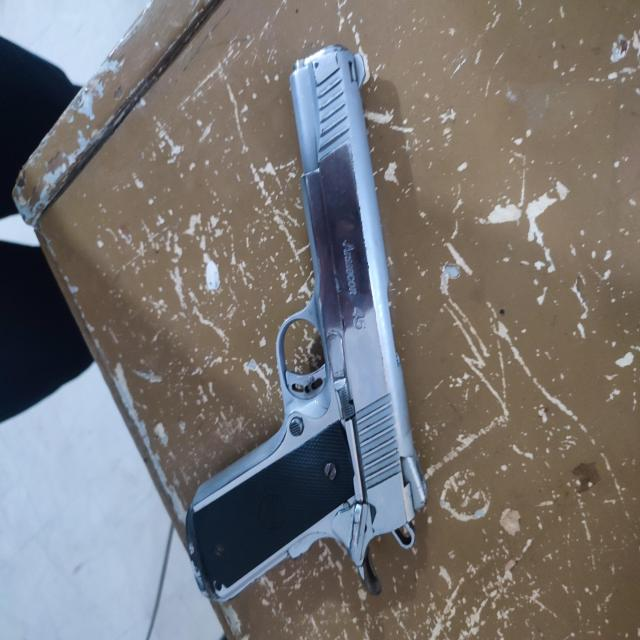pistol: (186, 42, 426, 594)
